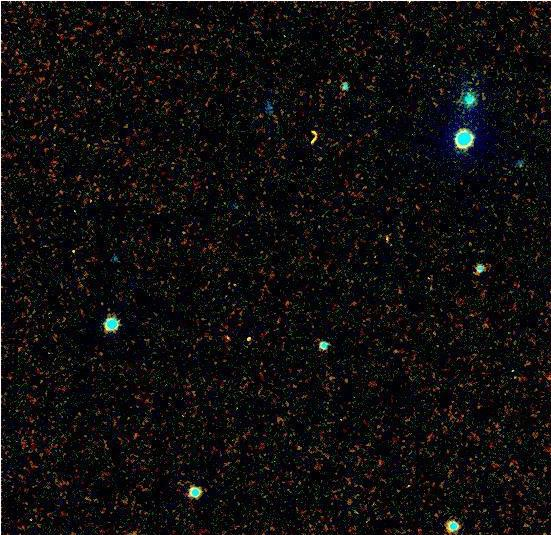star: (305, 128, 335, 158)
